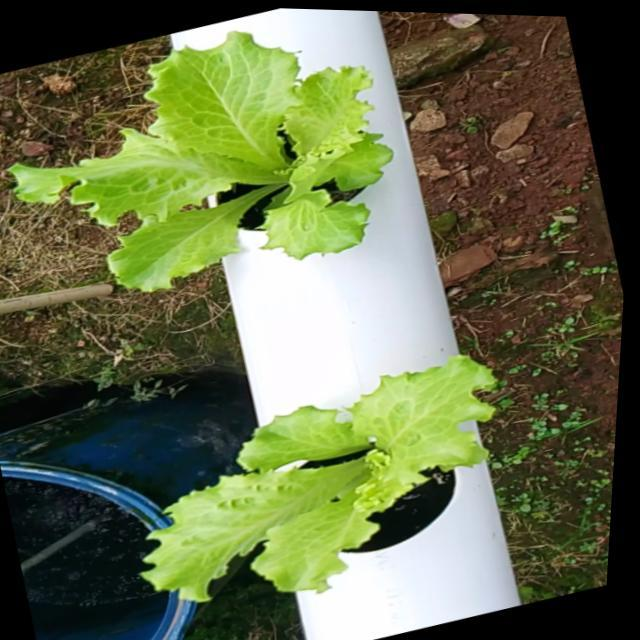Baby: (10, 29, 394, 292), (143, 358, 498, 604)
